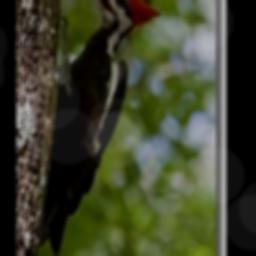Woodpecker: (39, 0, 163, 256)
